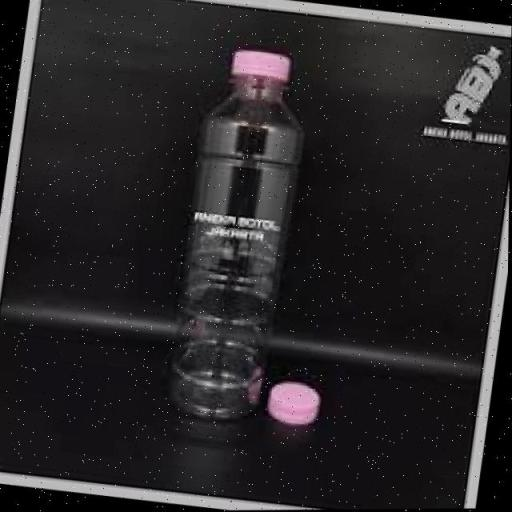plastic: (158, 32, 323, 434)
